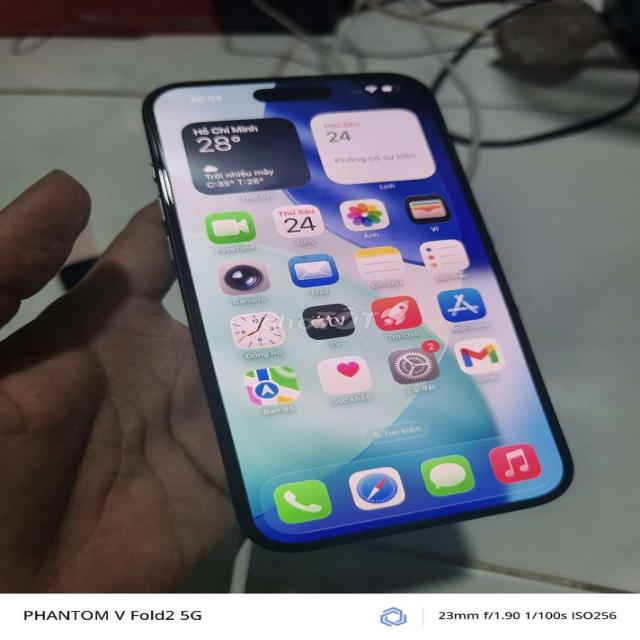gen_16: (145, 73, 572, 549)
